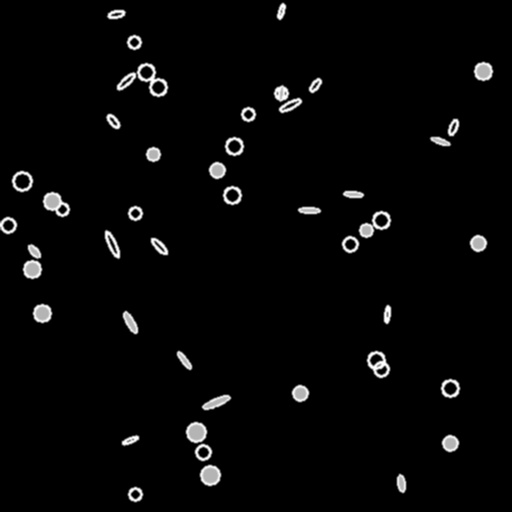pseudomonas: (103, 230, 121, 258), (202, 394, 230, 410), (115, 71, 137, 91), (150, 236, 168, 256), (279, 97, 301, 113), (122, 311, 138, 333), (105, 112, 121, 130), (176, 351, 192, 369), (27, 243, 41, 259), (308, 77, 322, 93), (447, 118, 459, 136), (430, 136, 450, 146), (107, 9, 125, 19), (396, 475, 406, 491), (122, 435, 138, 445), (383, 305, 391, 323), (277, 3, 285, 19), (277, 85, 285, 101), (299, 207, 319, 213), (344, 191, 362, 197)
synechocystis: (13, 172, 31, 190), (187, 423, 205, 441), (201, 466, 219, 484), (150, 79, 166, 95), (475, 63, 491, 79), (442, 380, 458, 396), (34, 305, 50, 321), (373, 212, 389, 228), (24, 261, 40, 277), (44, 193, 60, 209), (224, 187, 240, 203), (368, 352, 384, 368), (138, 64, 154, 80), (226, 138, 242, 154), (196, 445, 210, 459), (1, 218, 15, 232), (343, 237, 357, 251), (374, 362, 388, 376), (471, 236, 485, 250), (293, 386, 307, 400), (443, 436, 457, 450), (210, 163, 224, 177), (129, 488, 141, 500), (360, 224, 372, 236), (56, 203, 68, 215), (242, 108, 254, 120), (147, 148, 159, 160), (275, 87, 287, 99), (129, 207, 141, 219), (128, 36, 140, 48)
